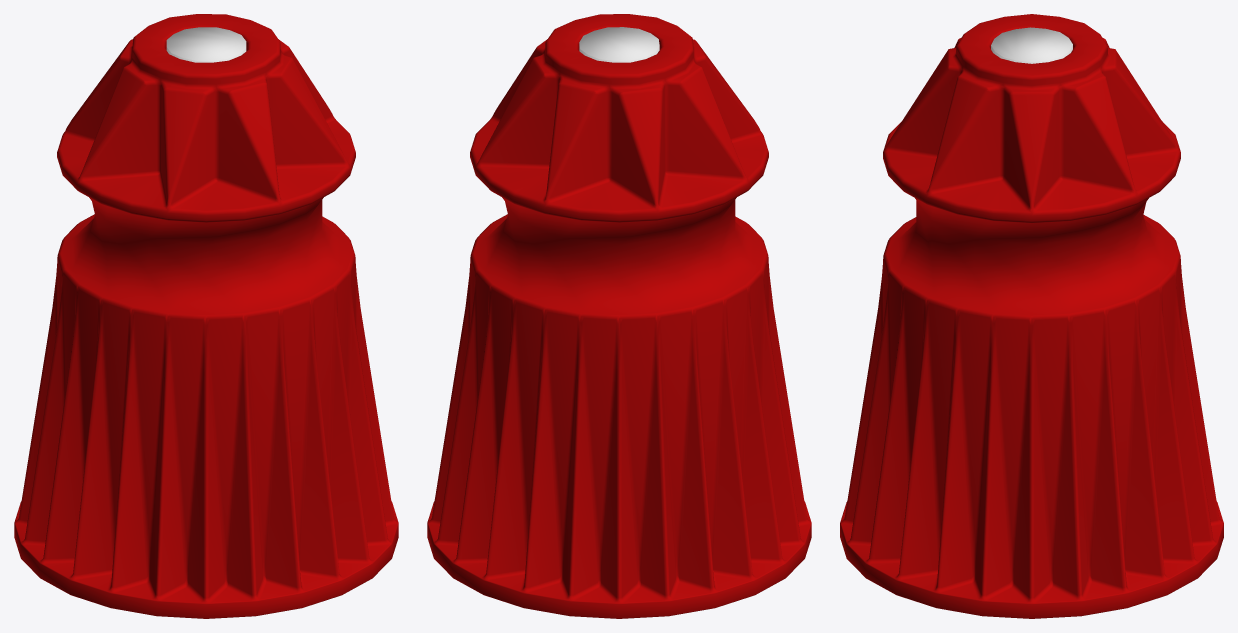
File: Model - Plastic - Star - 1in.fbx
The picture shows the model from 3 angles, left to right: view 1: azimuth 30°, elevation 25°; view 2: azimuth 150°, elevation 25°; view 3: azimuth 270°, elevation 25°; orthographic projection.
Visible parts, largest first — view 1: Post - Plastic - Star - 1"; view 2: Post - Plastic - Star - 1"; view 3: Post - Plastic - Star - 1".
Part boxes in pixels (left/top/right/bottom): Post - Plastic - Star - 1": left=14, top=14, right=398, bottom=618; Post - Plastic - Star - 1": left=427, top=14, right=811, bottom=618; Post - Plastic - Star - 1": left=840, top=14, right=1223, bottom=618.
Size of the model in its own units: 1.79 by 2.54 by 1.79.
